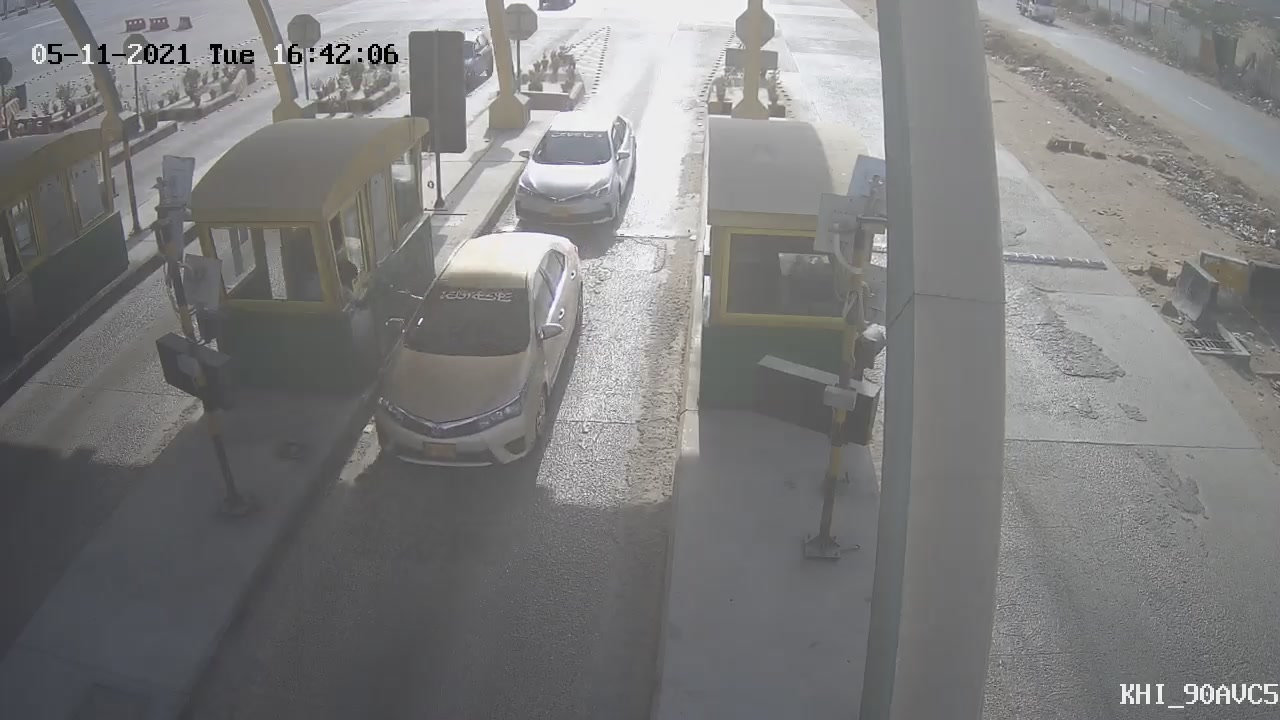F1: (348, 216, 605, 490), (499, 96, 651, 243)
